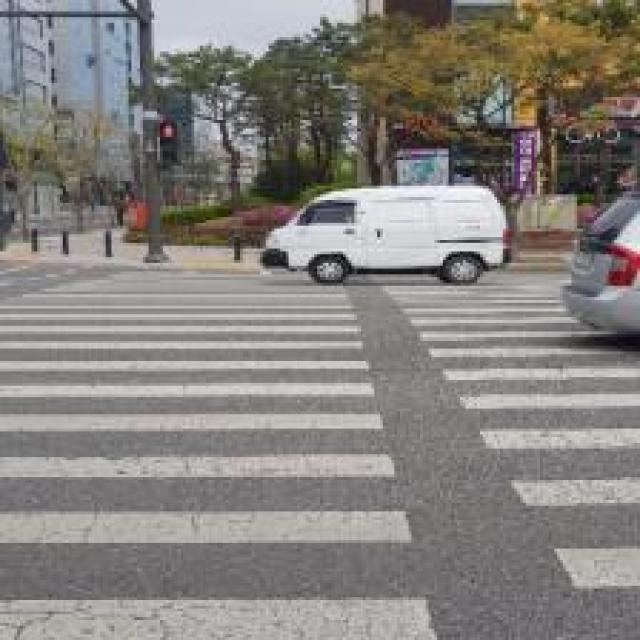crosswalk: (1, 265, 450, 633), (379, 283, 640, 637)
